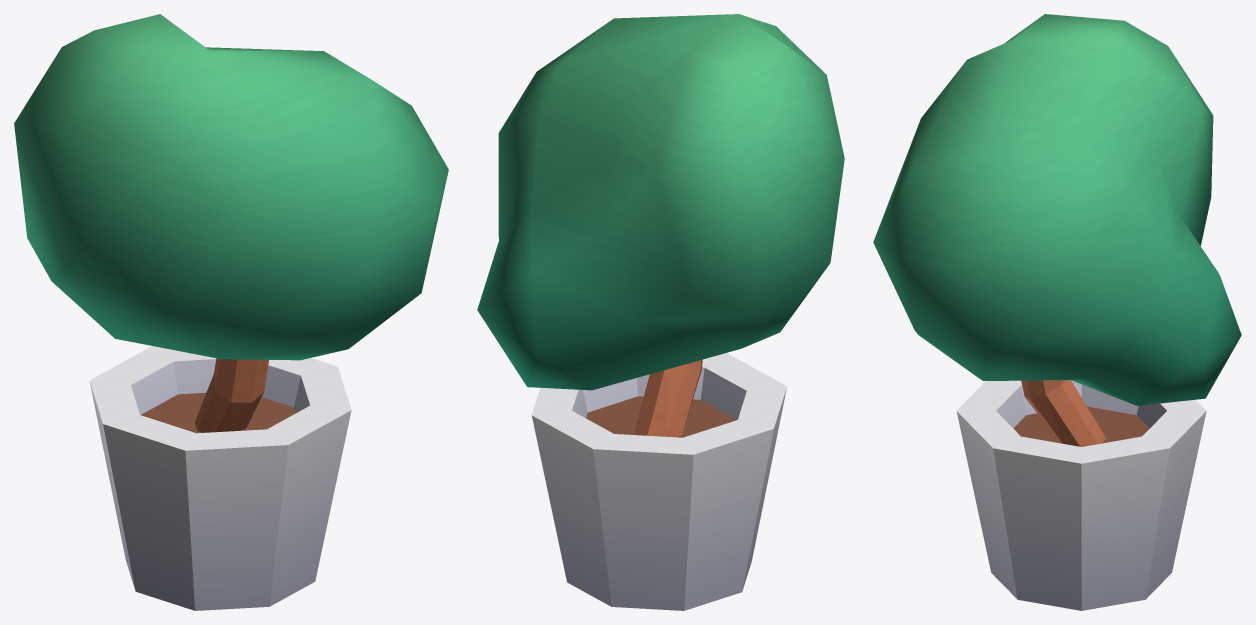
Rendered from potplant.fbx.
3 renders of one model, left to right at view 1: azimuth 30°, elevation 25°; view 2: azimuth 150°, elevation 25°; view 3: azimuth 270°, elevation 25°, orthographic. The views are drawn at different scales.
Visible parts, largest first — view 1: potplant; view 2: potplant; view 3: potplant.
Boxes of the visible parts, <box> form: potplant: <box>14,14,448,610</box>; potplant: <box>477,14,844,610</box>; potplant: <box>873,14,1241,610</box>.
Size of the model in its own units: 0.2672 by 0.2772 by 0.4265.
